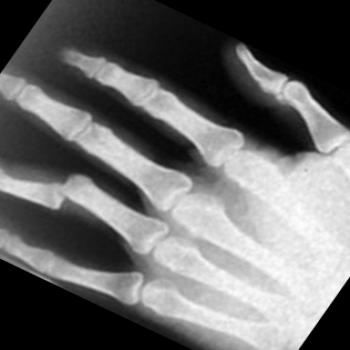Fracture: (44, 172, 90, 214)
